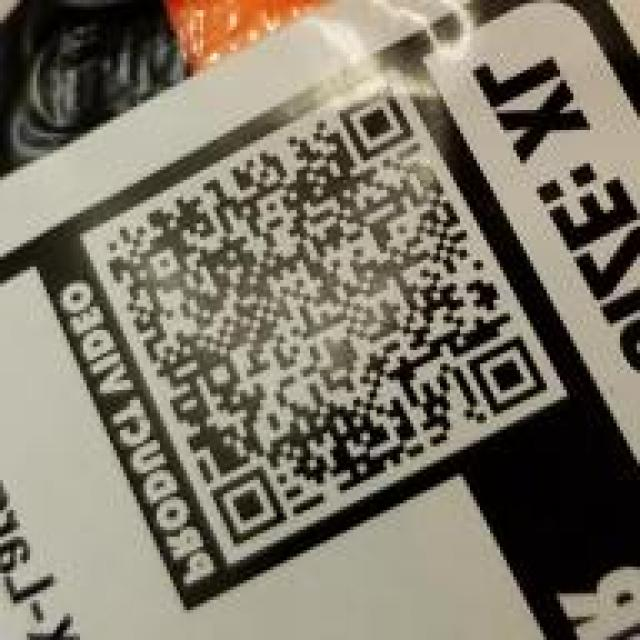QR_CODE: (92, 70, 560, 553)
